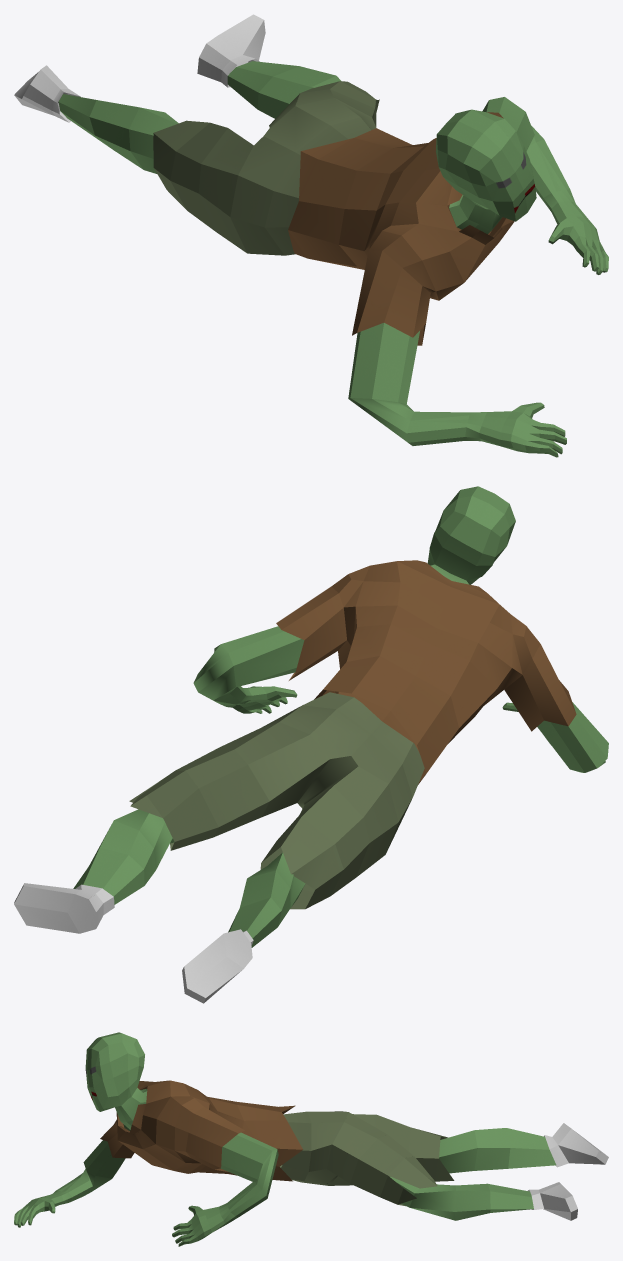
The model's file is ZombieCrawl(97).obj.
The picture shows the model from 3 angles, top to bottom: view 1: azimuth 30°, elevation 25°; view 2: azimuth 150°, elevation 25°; view 3: azimuth 270°, elevation 25°; orthographic projection. The views are drawn at different scales.
Parts seen in each view (by area): view 1: Object001; view 2: Object001; view 3: Object001.
Part boxes in pixels (bbox=[...]): Object001: bbox=[14, 14, 608, 457]; Object001: bbox=[14, 486, 608, 1003]; Object001: bbox=[14, 1032, 608, 1246].
Size of the model in its own units: 26.96 by 23.45 by 66.3.
